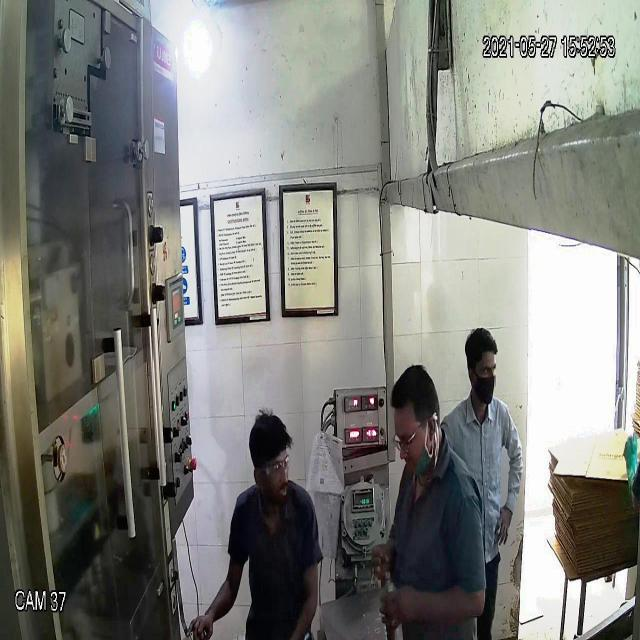glasses: (386, 428, 432, 458), (249, 454, 295, 481)
no-glass: (466, 360, 498, 380)
